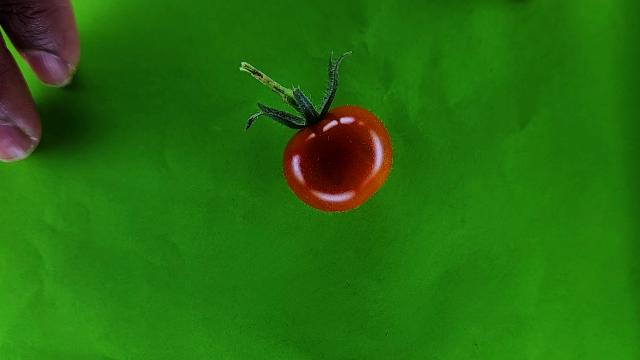Fully Grown: (280, 104, 395, 214)
